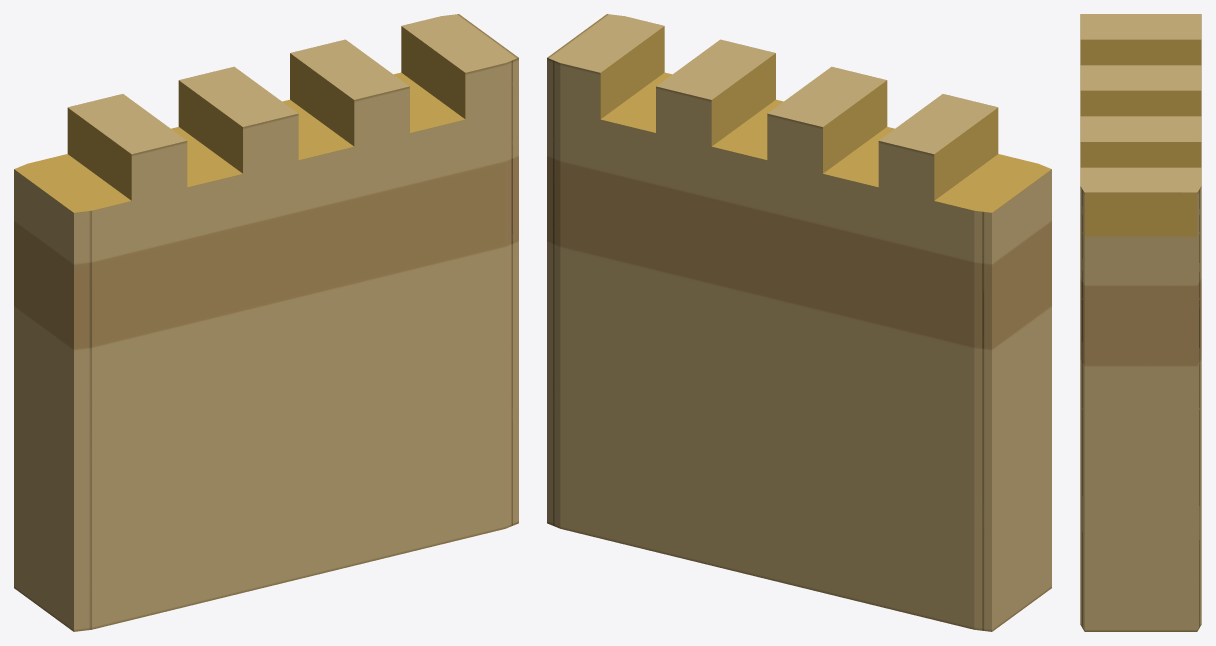
File: wall1.fbx
3 views of the same model, side by side, from view 1: azimuth 30°, elevation 25°; view 2: azimuth 150°, elevation 25°; view 3: azimuth 270°, elevation 25° (orthographic). The views are drawn at different scales.
Visible parts, largest first — view 1: Cube.227; view 2: Cube.227; view 3: Cube.227.
Boxes of the visible parts, left/top/right/bottom form: Cube.227: left=14, top=14, right=518, bottom=631; Cube.227: left=547, top=14, right=1051, bottom=631; Cube.227: left=1080, top=14, right=1201, bottom=631.
Size of the model in its own units: 50 by 200 by 200.
